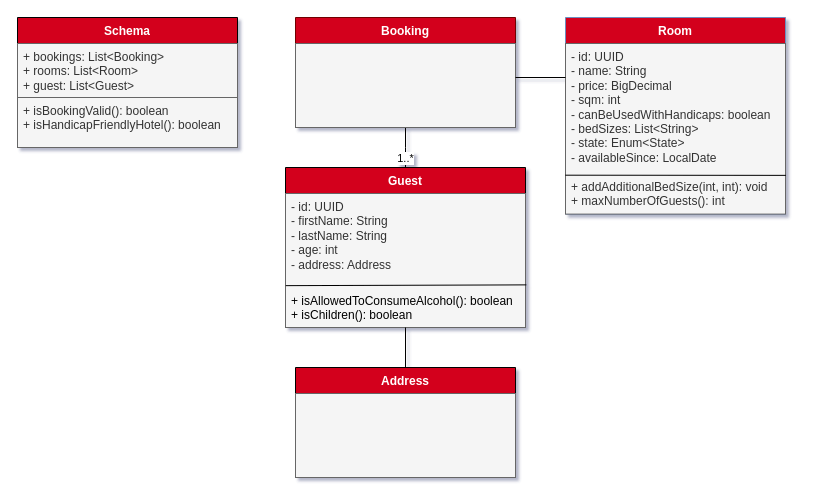
Image size: 832x504. Some labels were removed from this diagram. The centre of each missing label's shape, as x and y in pixels:
- id: UUID - room: Room - guests: List<Guest> - date: LocalDate: (405,85)
- street: String - postalCode: Integer - city: String - state: String: (405,435)
